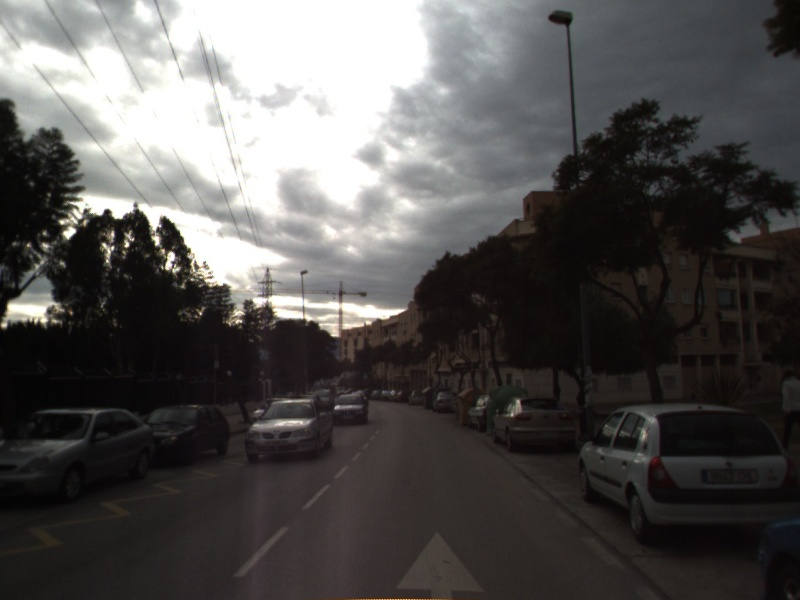STRAIGHT: (391, 527, 490, 600)
